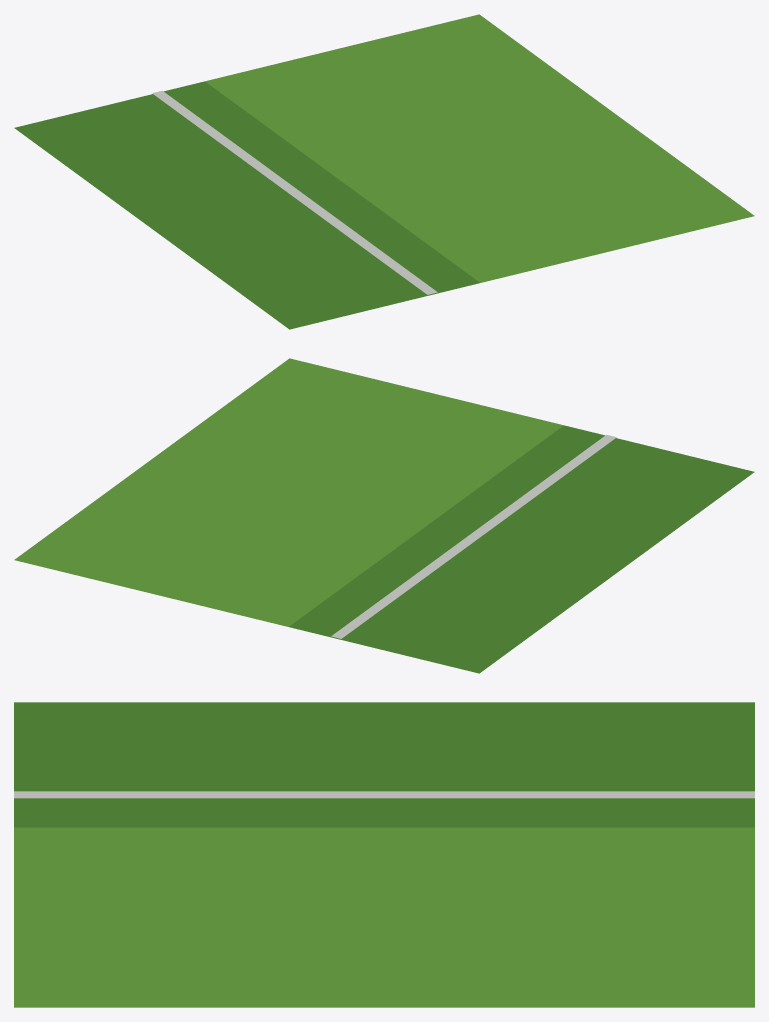
File: pitch_f_2_5.glb
The picture shows the model from 3 angles, top to bottom: view 1: azimuth 30°, elevation 25°; view 2: azimuth 150°, elevation 25°; view 3: azimuth 270°, elevation 25°; orthographic projection. The views are drawn at different scales.
Parts seen in each view (by area): view 1: pitch_f_2_5; view 2: pitch_f_2_5; view 3: pitch_f_2_5.
Part boxes in pixels (box(x1,y1,x2,y2)): pitch_f_2_5: box(14, 14, 754, 329); pitch_f_2_5: box(14, 358, 754, 673); pitch_f_2_5: box(14, 702, 754, 1007).
Bounding box in the file's own units: 9.75 × 0.02 × 10.
